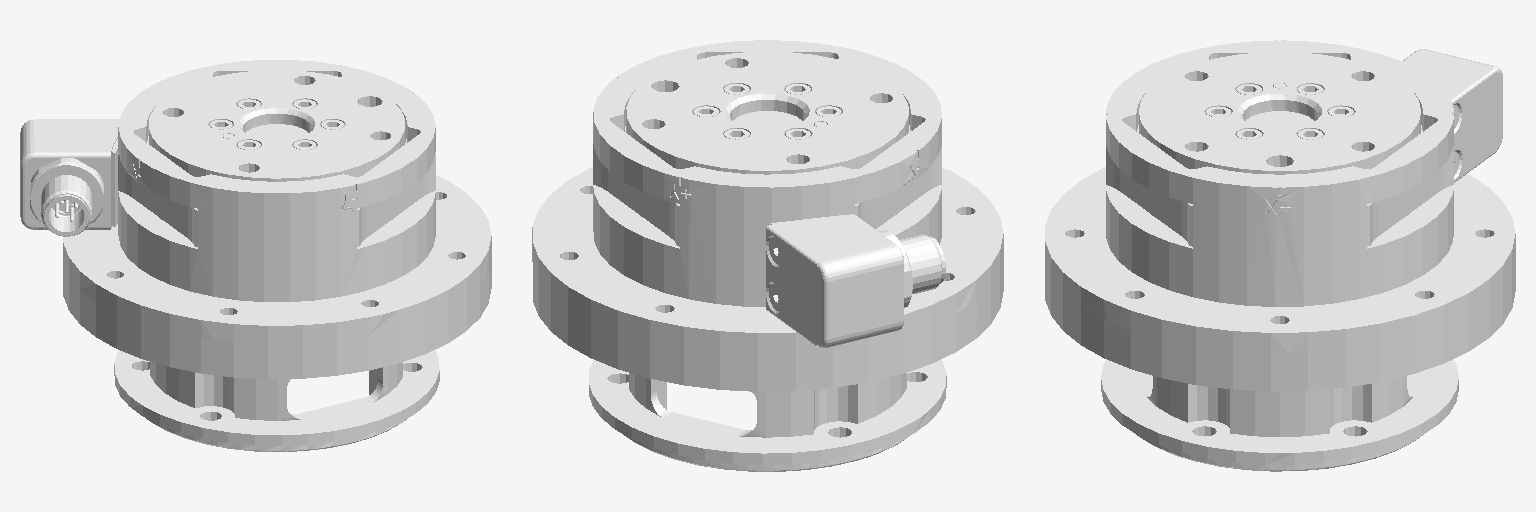
robot.urdf — adaptor:
<?xml version="1.0" encoding="utf-8"?>
<!-- This URDF was automatically created by SolidWorks to URDF Exporter! Originally created by [author] ([email redacted]) 
     Commit Version: 1.6.0-4-g7f85cfe  Build Version: 1.6.7995.38578
     For more information, please see http://wiki.ros.org/sw_urdf_exporter -->
<robot
  name="adaptor">
  <link
    name="adaptor_base_link">
    <inertial>
      <origin
        xyz="-0.0015897 0.0012554 0.03991"
        rpy="0 0 0" />
      <mass
        value="0.3316" />
      <inertia
        ixx="0.0001341"
        ixy="-5.884E-08"
        ixz="-8.1474E-08"
        iyy="0.00013588"
        iyz="7.6324E-10"
        izz="0.0002384" />
    </inertial>
    <visual>
      <origin
        xyz="0 0 0"
        rpy="0 0 0" />
      <geometry>
        <mesh
          filename="package://adaptor/meshes/adaptor_base_link.STL" />
      </geometry>
      <material
        name="">
        <color
          rgba="1 1 1 1" />
      </material>
    </visual>
    <collision>
      <origin
        xyz="0 0 0"
        rpy="0 0 0" />
      <geometry>
        <mesh
          filename="package://adaptor/meshes/adaptor_base_link.STL" />
      </geometry>
    </collision>
  </link>
  <link
    name="Sensor_Link">
    <inertial>
      <origin
        xyz="0.0048347 -2.1042E-05 0.033921"
        rpy="0 0 0" />
      <mass
        value="0.0979" />
      <inertia
        ixx="8.4795E-05"
        ixy="-4.7661E-08"
        ixz="6.9975E-07"
        iyy="0.00018165"
        iyz="4.4135E-09"
        izz="0.00024653" />
    </inertial>
    <visual>
      <origin
        xyz="0 0 0"
        rpy="0 0 0" />
      <geometry>
        <mesh
          filename="package://adaptor/meshes/Sensor_Link.STL" />
      </geometry>
      <material
        name="">
        <color
          rgba="1 1 1 1" />
      </material>
    </visual>
    <collision>
      <origin
        xyz="0 0 0"
        rpy="0 0 0" />
      <geometry>
        <mesh
          filename="package://adaptor/meshes/Sensor_Link.STL" />
      </geometry>
    </collision>
  </link>
  <joint
    name="Sensor_Joint"
    type="fixed">
    <origin
      xyz="0 0 0.06835"
      rpy="0 0 0" />
    <parent
      link="adaptor_base_link" />
    <child
      link="Sensor_Link" />
    <axis
      xyz="0 0 0" />
  </joint>
</robot>

--- What the picture shows (computed from the rendered views, not written in the file) ---
3 views of the same robot in one strip: view 1: azimuth 30°, elevation 25°; view 2: azimuth 150°, elevation 25°; view 3: azimuth 270°, elevation 25° (orthographic).
Model adaptor with 2 links and 1 joints (1 fixed), rooted at adaptor_base_link, posed all joints at 0.
Links seen in each view (by area): view 1: adaptor_base_link; view 2: adaptor_base_link; view 3: adaptor_base_link.
Link boxes in pixels (x1=…): adaptor_base_link: x1=20, y1=60, x2=491, y2=451; adaptor_base_link: x1=532, y1=40, x2=1003, y2=471; adaptor_base_link: x1=1044, y1=40, x2=1515, y2=471.
Size in the robot's own frame: 0.1031 by 0.1 by 0.0684 metres.
1 mesh visuals loaded from 2 distinct referenced files (1 binary STL); not drawn: 1 (reference not matched to a file when rendering).